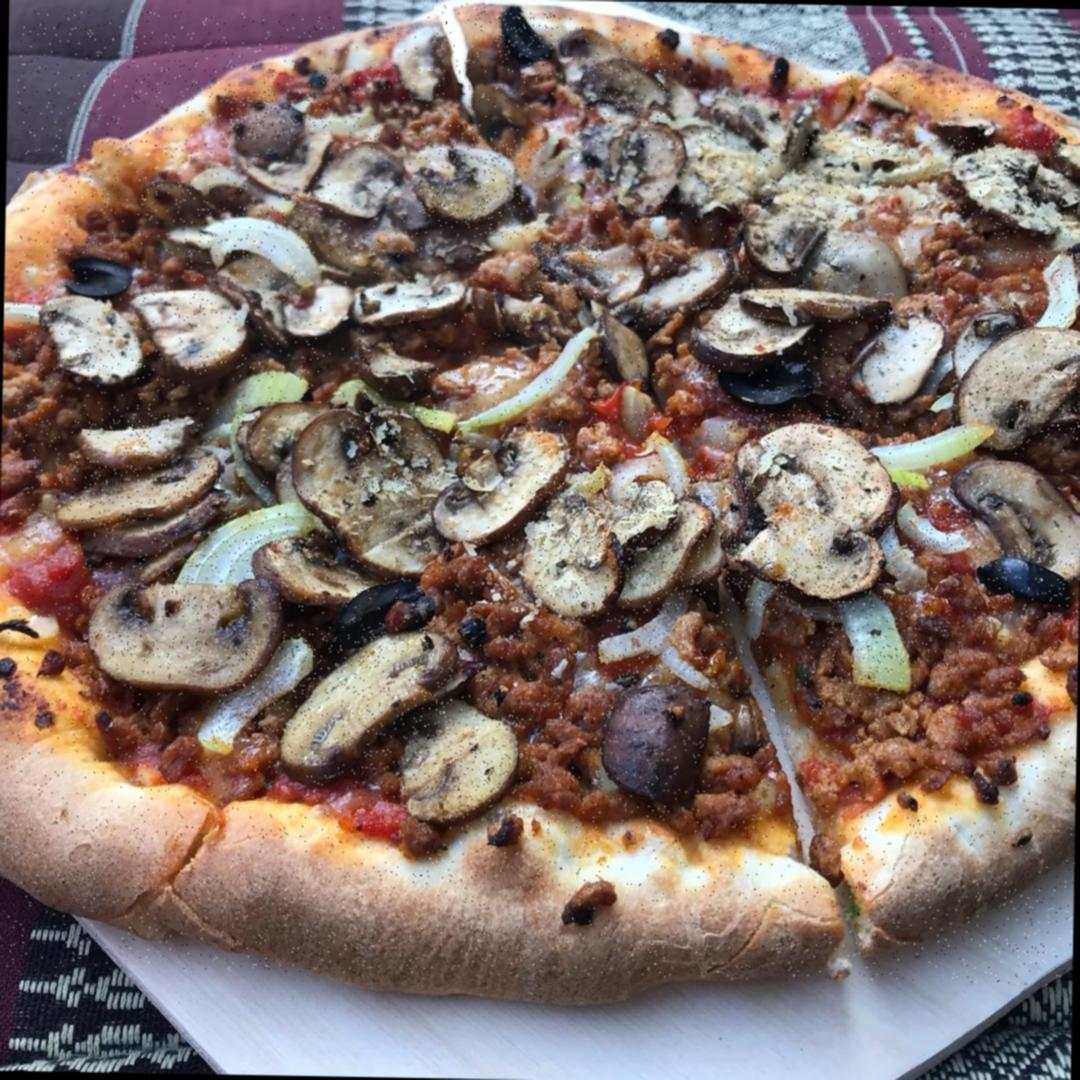Mushroom: (720, 408, 898, 608), (282, 626, 466, 771), (534, 474, 708, 627), (88, 562, 276, 683), (691, 271, 896, 370), (296, 408, 440, 534), (286, 256, 470, 346), (952, 319, 1080, 445), (959, 450, 1080, 573), (426, 432, 564, 538), (56, 453, 224, 538), (240, 402, 348, 524), (948, 132, 1068, 240), (401, 711, 524, 814), (418, 123, 524, 236), (41, 297, 152, 382), (593, 123, 698, 212), (133, 290, 252, 366), (853, 316, 943, 406), (309, 142, 406, 224), (580, 41, 672, 125), (82, 413, 171, 482)
Olives: (602, 672, 726, 798), (989, 543, 1079, 630), (57, 250, 138, 320), (230, 92, 333, 142), (530, 242, 602, 298), (763, 204, 827, 262), (496, 13, 556, 74), (136, 181, 208, 225)
Onion: (826, 583, 934, 708), (470, 337, 611, 432), (167, 509, 306, 600), (212, 642, 313, 747), (185, 200, 311, 282), (595, 604, 708, 693), (872, 408, 997, 482), (1009, 251, 1080, 342), (434, 1, 486, 112), (888, 504, 972, 554)
Pizza: (2, 8, 1080, 985)
